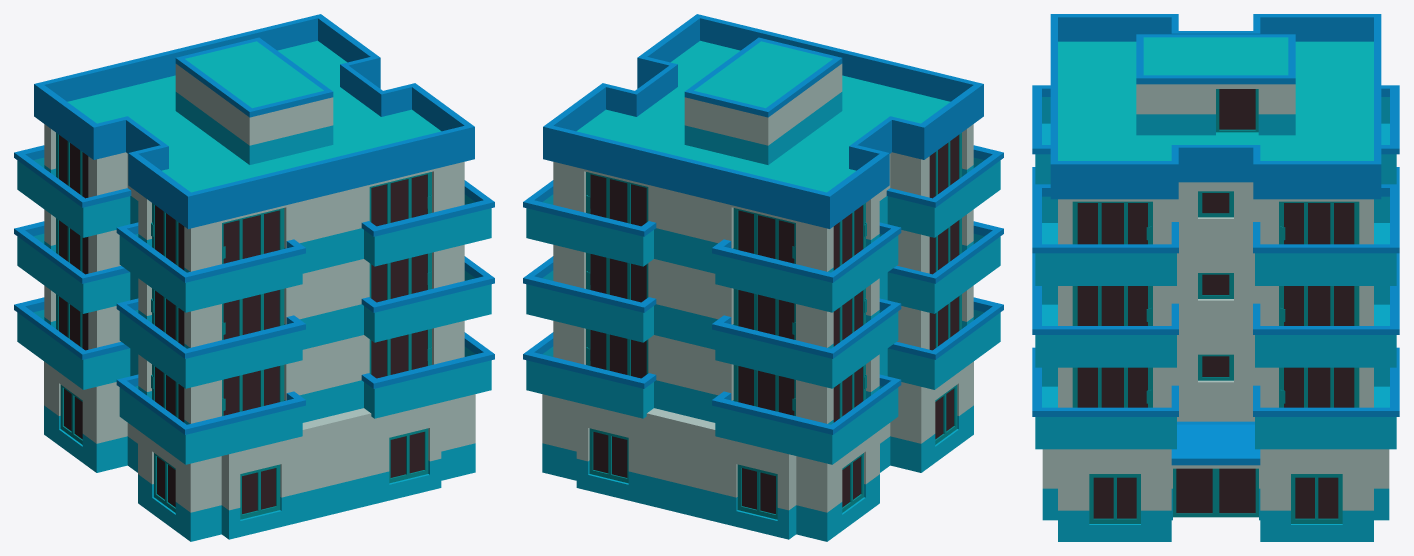
The model's file is low_poly_apartment_building_3.glb.
3 views of the same model, side by side, from view 1: azimuth 30°, elevation 25°; view 2: azimuth 150°, elevation 25°; view 3: azimuth 270°, elevation 25° (orthographic). The views are drawn at different scales.
Visible parts, largest first — view 1: PublicBuilding_8; view 2: PublicBuilding_8; view 3: PublicBuilding_8.
Boxes of the visible parts, <box> form: PublicBuilding_8: <box>14,14,494,541</box>; PublicBuilding_8: <box>523,14,1003,541</box>; PublicBuilding_8: <box>1032,14,1399,541</box>.
Size of what is drawn, in the model's own units: 5.74 by 6.72 by 5.48.
Materials: 1 (1 with a texture image).
